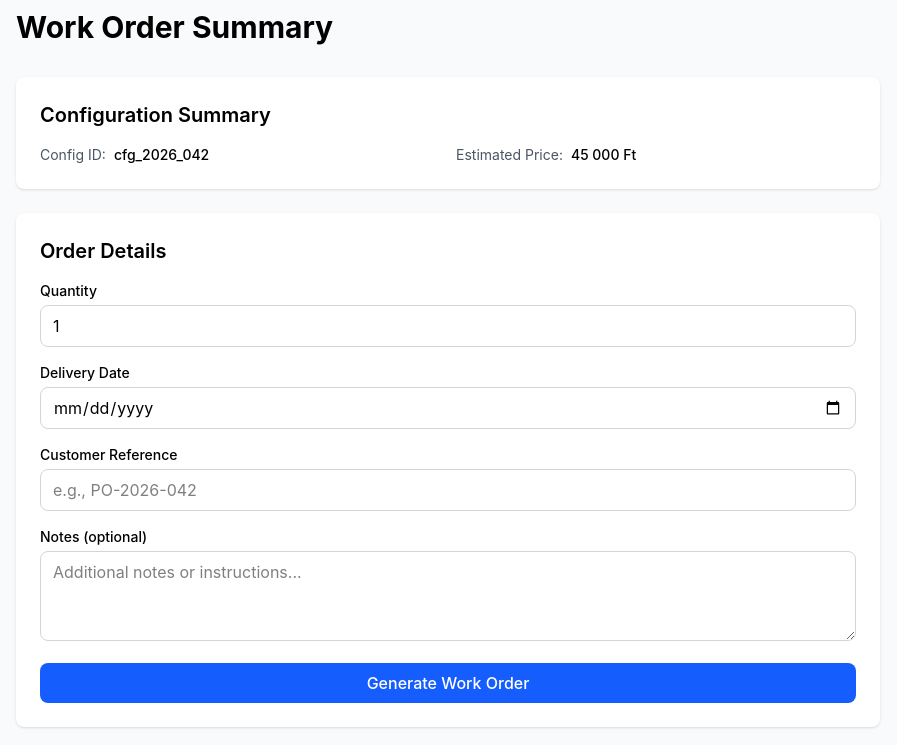
Test: Configurator Integration Flow with MSW › submits work order and displays result with MSW mock data
The width and height of the screenshot is (897, 745).
Check: the heading "Configuration Summary" is shown, box [40,103,271,127]
Note: Fill work order form
Replace the text in the number field labelled "Quantity" with "5". click: (448, 326)
box: [40,305,856,347]
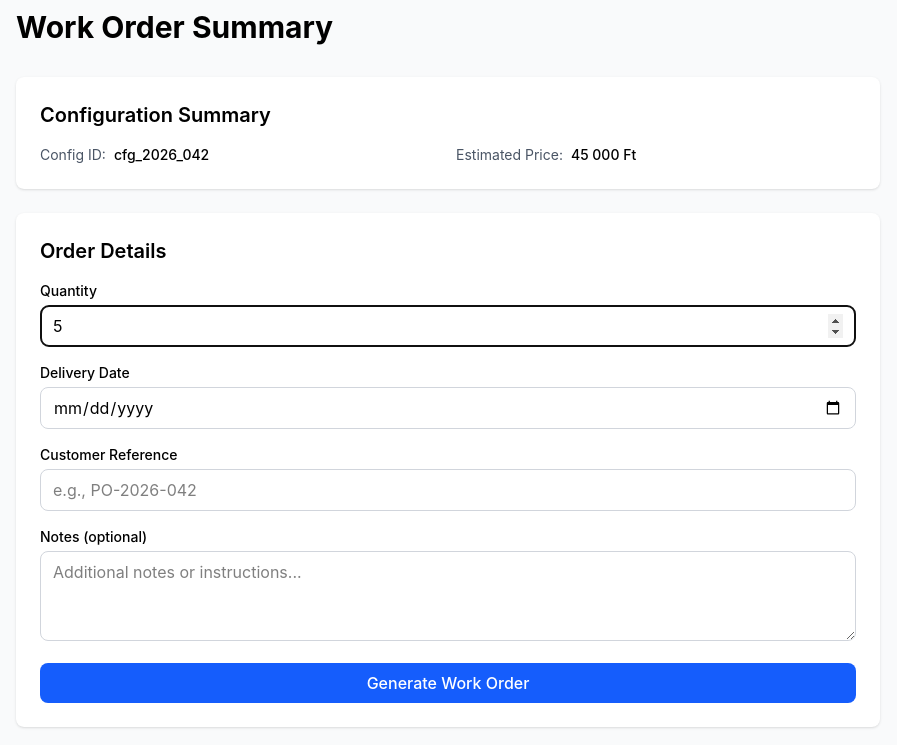
Type "2026-07-15" into the date field labelled "Delivery Date". click: (448, 408)
box: [40,387,856,429]
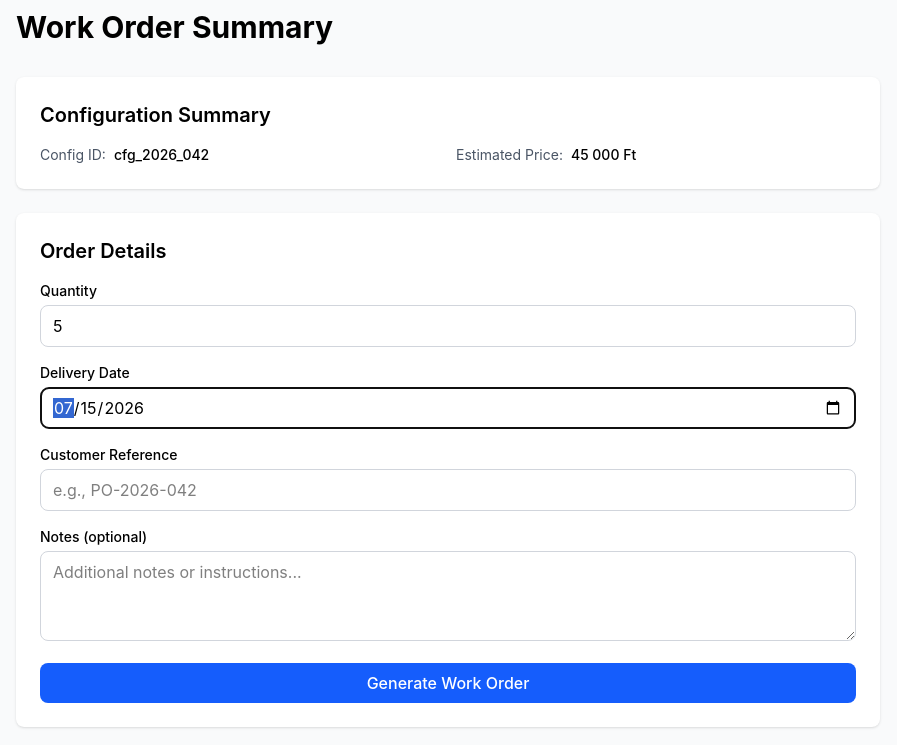
Type "PO-2026-042" into the field labelled "Customer Reference". click: (448, 490)
box: [40,469,856,511]
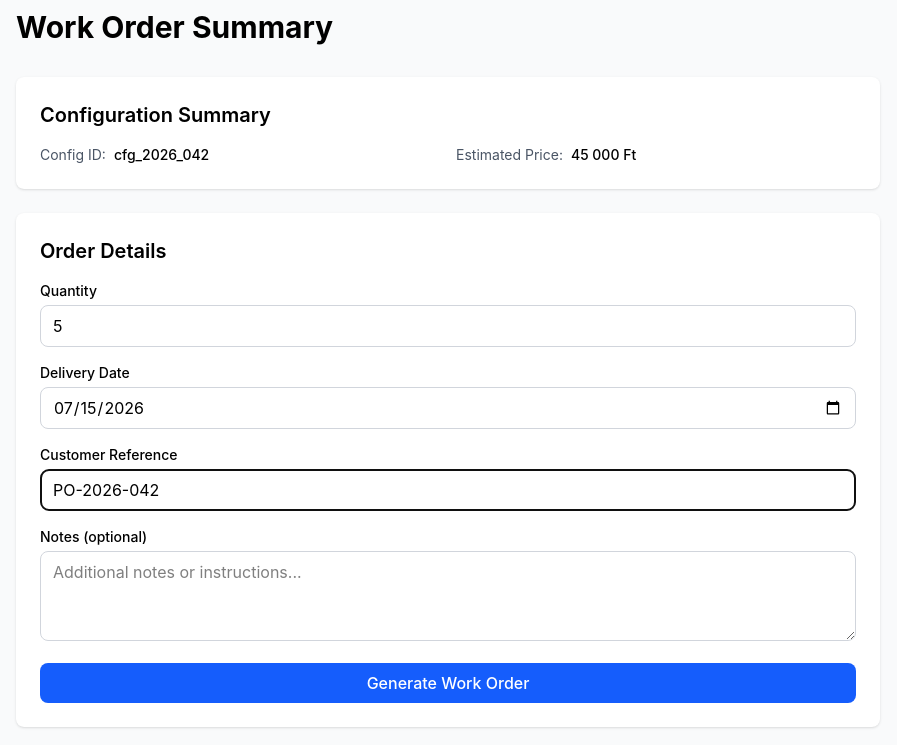
Type "Urgent order for Doorstar" into the text box labelled "Notes (optional)". click: (448, 596)
box: [40,551,856,641]
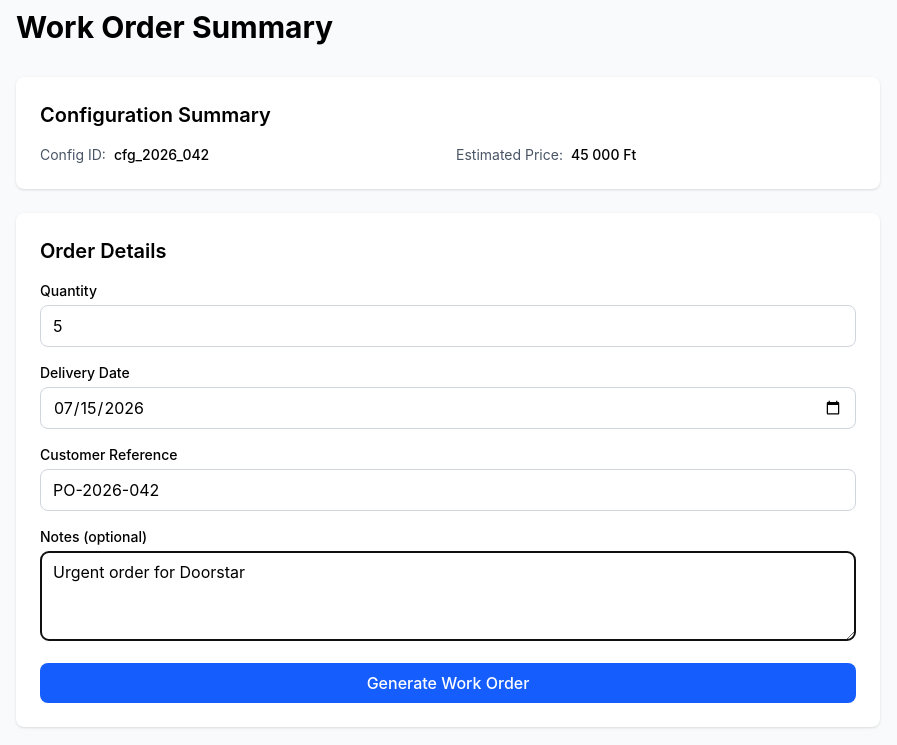
Click the button "Generate Work Order". click: (448, 683)
box: [40,663,856,703]
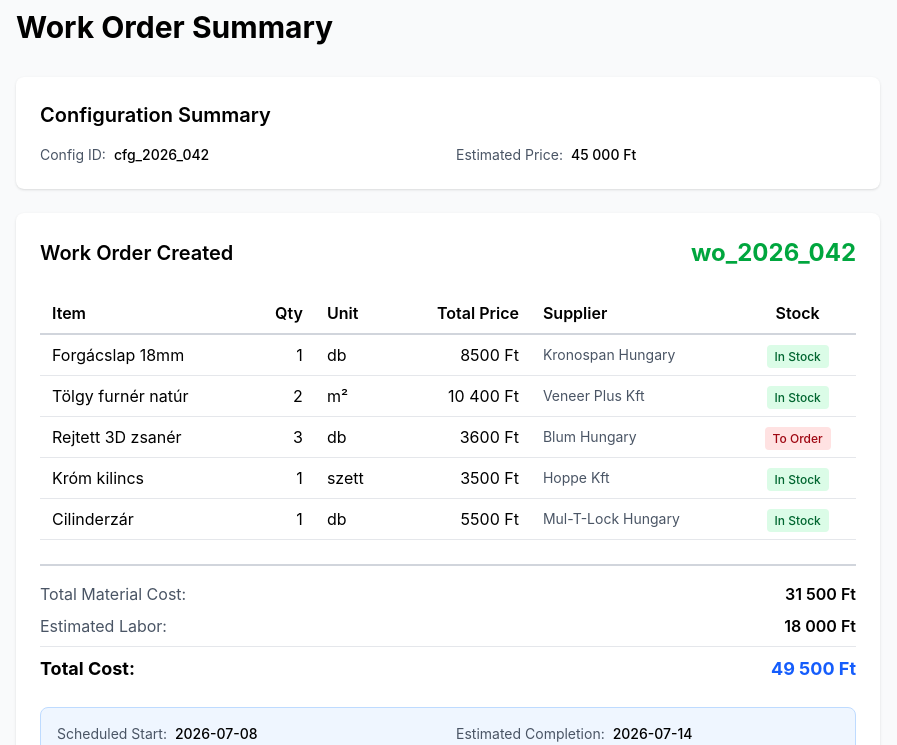
Check: the heading "Work Order Created" is shown, box [40,239,233,267]
Check: the text "wo_2026_042" is shown, box [691,237,856,269]
Check: the text "31 500 Ft" is shown, box [785,582,856,606]
